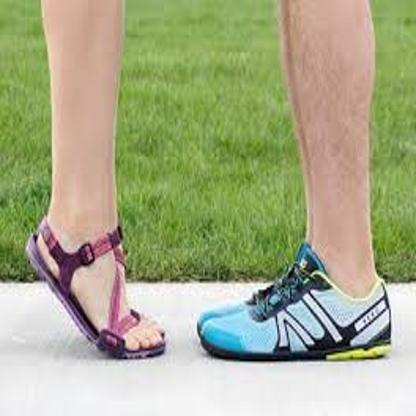not trash: (197, 251, 394, 359), (27, 220, 172, 360)
